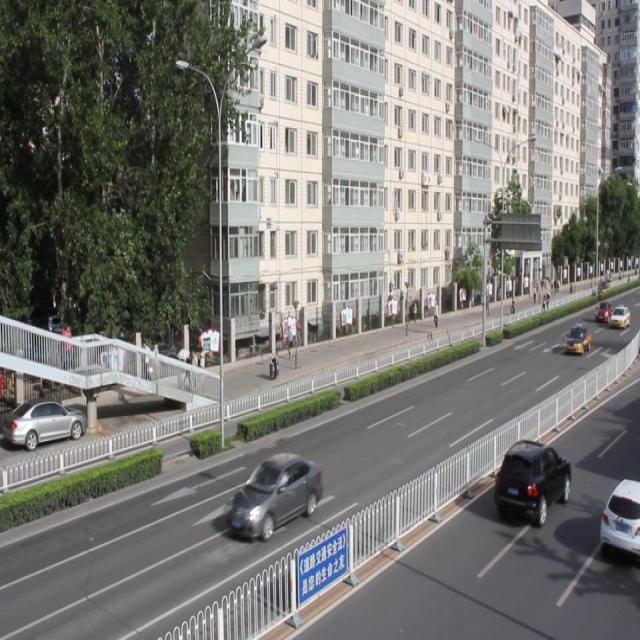car: (230, 452, 319, 538), (493, 437, 569, 523), (596, 475, 640, 556), (562, 322, 589, 353)
